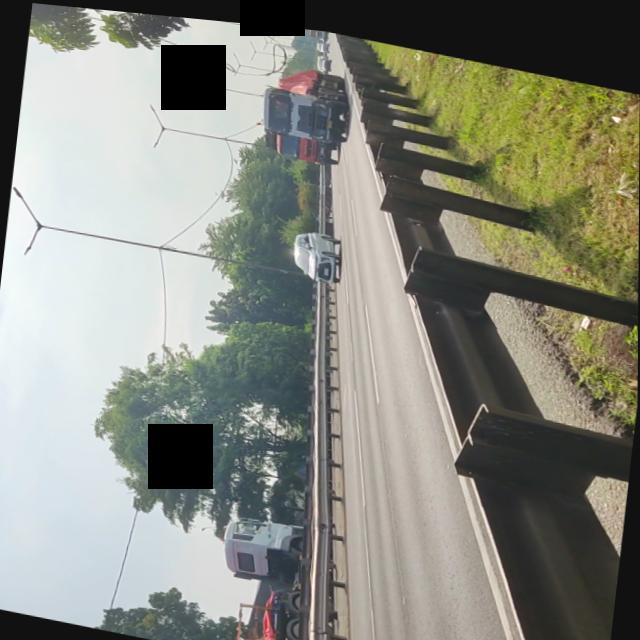Golongan I: (282, 215, 349, 282)
